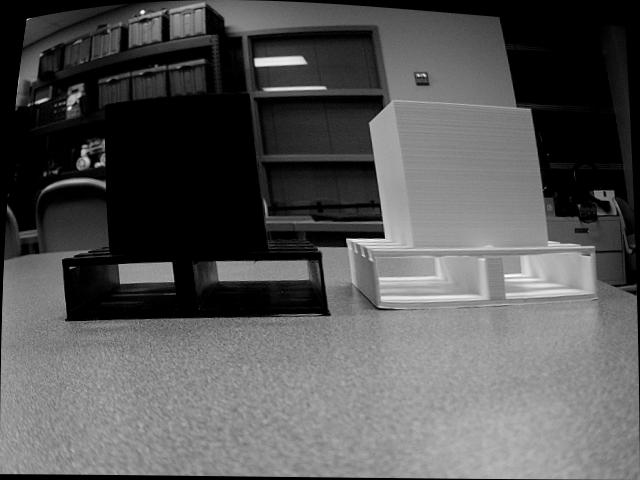black pallet: (58, 91, 338, 327)
white pallet: (343, 98, 603, 315)
